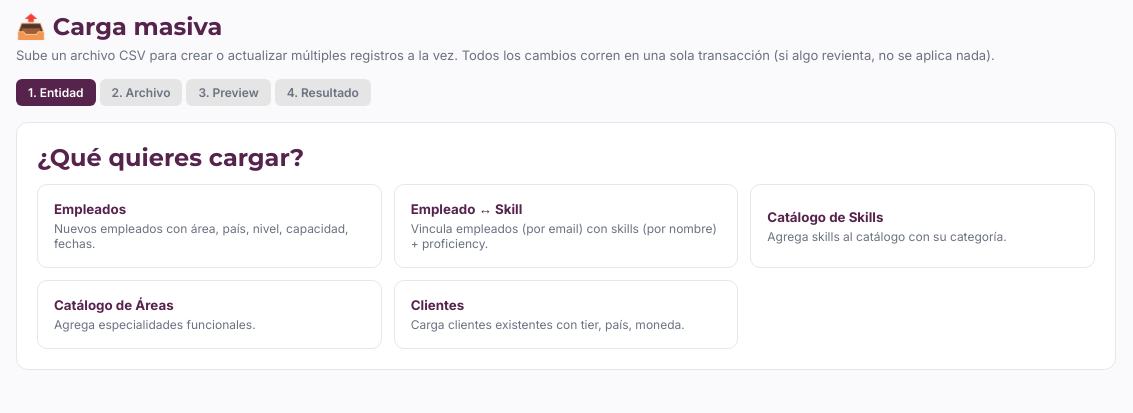
BulkImport — entity picker › advances to the upload step after picking an entity
Step 1. Click the button with aria-label "Cargar Catálogo de Skills" → [923, 226], box [750,184,1095,268]
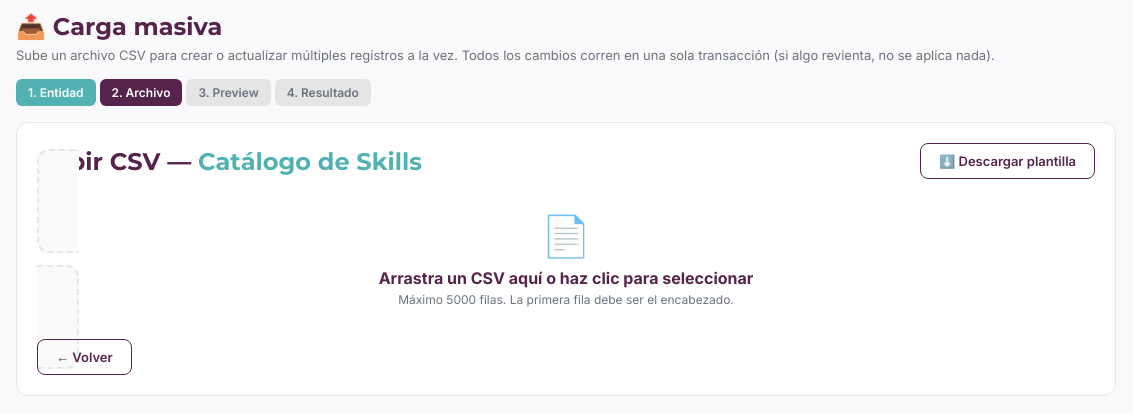
Check: the heading "Subir CSV — Catálogo de Skills" is shown, box [37,146,422,176]
